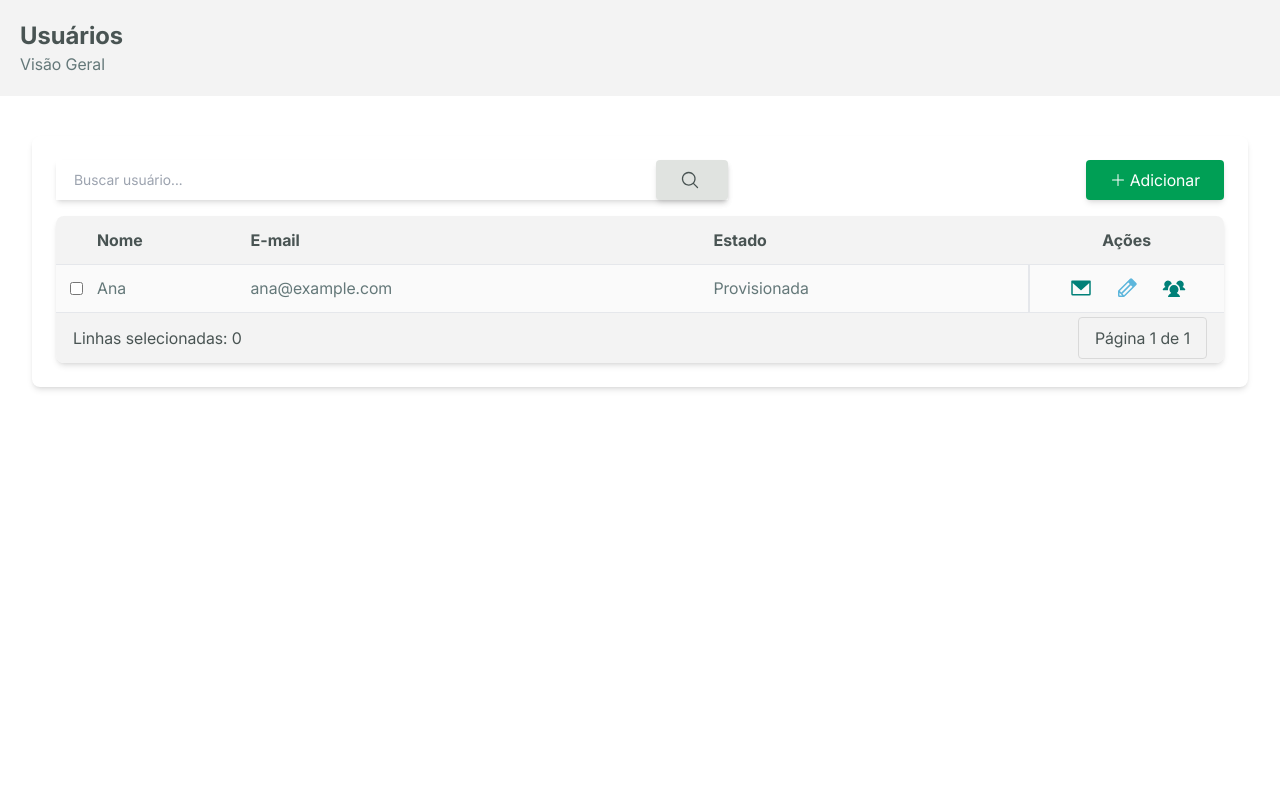
Test case: páginas CRUD assistenciais › resends activation for a provisioned local account
Expected: the text "ana@example.com" is shown, [250,264,712,312]
Click the button titled "Reenviar ativação". click: [1081, 288]
box: [1069,276,1093,300]
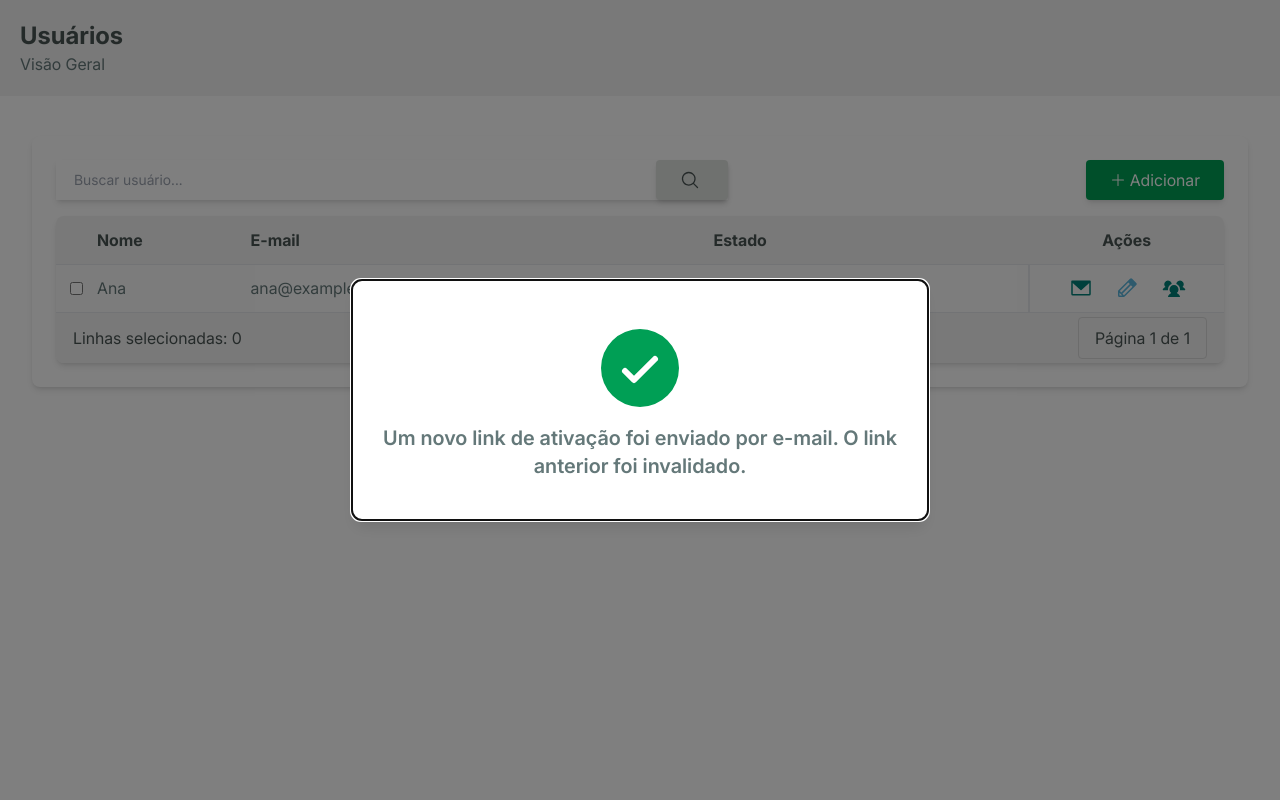
Now the text "Um novo link de ativação foi enviado por e-mail. O link anterior foi invalidado." is shown, box [380,424,900,480]
